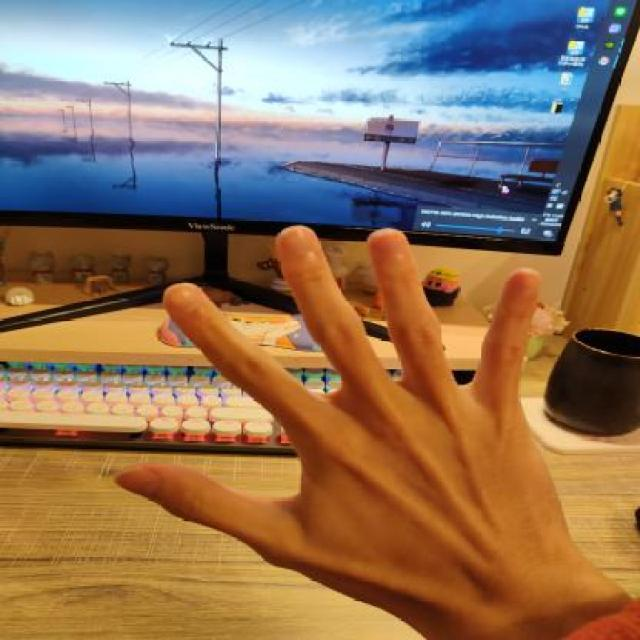bare_hand: (102, 211, 618, 640)
